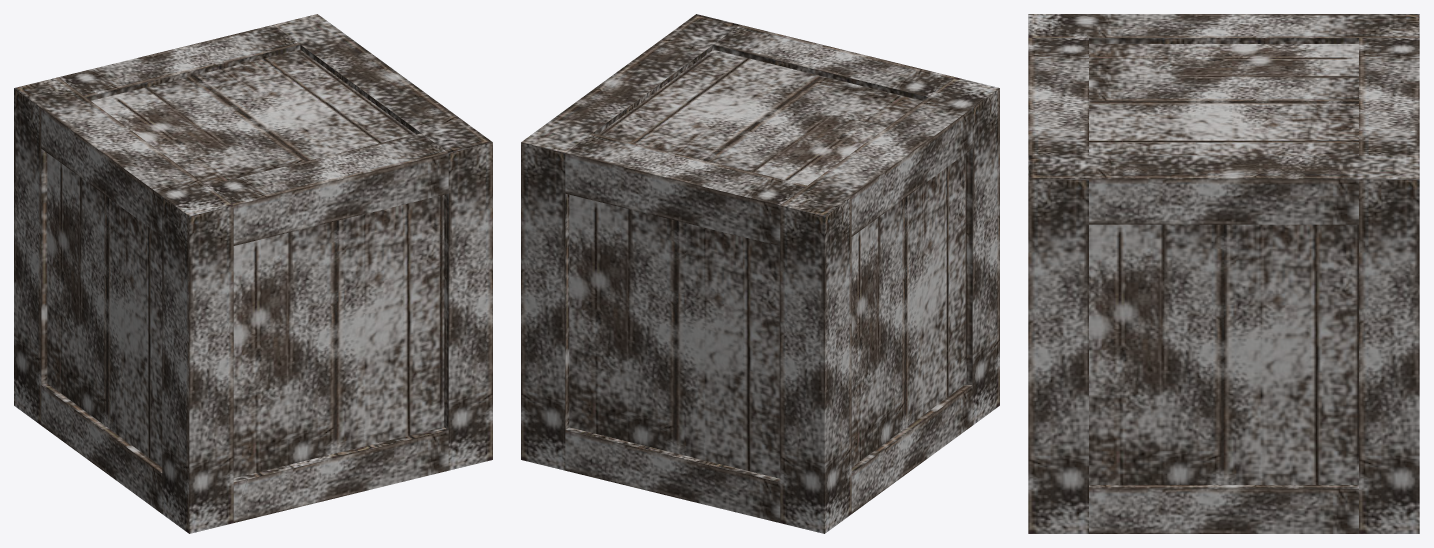
Rendered from ani_box_3ob_snow.FBX.
The picture shows the model from 3 angles, left to right: view 1: azimuth 30°, elevation 25°; view 2: azimuth 150°, elevation 25°; view 3: azimuth 270°, elevation 25°; orthographic projection. The views are drawn at different scales.
Parts seen in each view (by area): view 1: Object001, ani_box_A, Object002, Object003; view 2: Object001, Object003, Object002, ani_box_A; view 3: ani_box_A, Object002, Object001.
Boxes of the visible parts, left/top/right/bottom form: Object001: left=14, top=77, right=434, bottom=533; ani_box_A: left=234, top=214, right=492, bottom=522; Object002: left=59, top=14, right=492, bottom=235; Object003: left=14, top=161, right=162, bottom=513; Object001: left=726, top=28, right=999, bottom=425; Object003: left=659, top=246, right=972, bottom=533; Object002: left=521, top=14, right=780, bottom=318; ani_box_A: left=521, top=286, right=715, bottom=505; ani_box_A: left=1028, top=246, right=1419, bottom=533; Object002: left=1028, top=38, right=1419, bottom=389; Object001: left=1028, top=14, right=1419, bottom=148.
Bounding box in the file's own units: 1.5 × 1.5 × 1.5.
